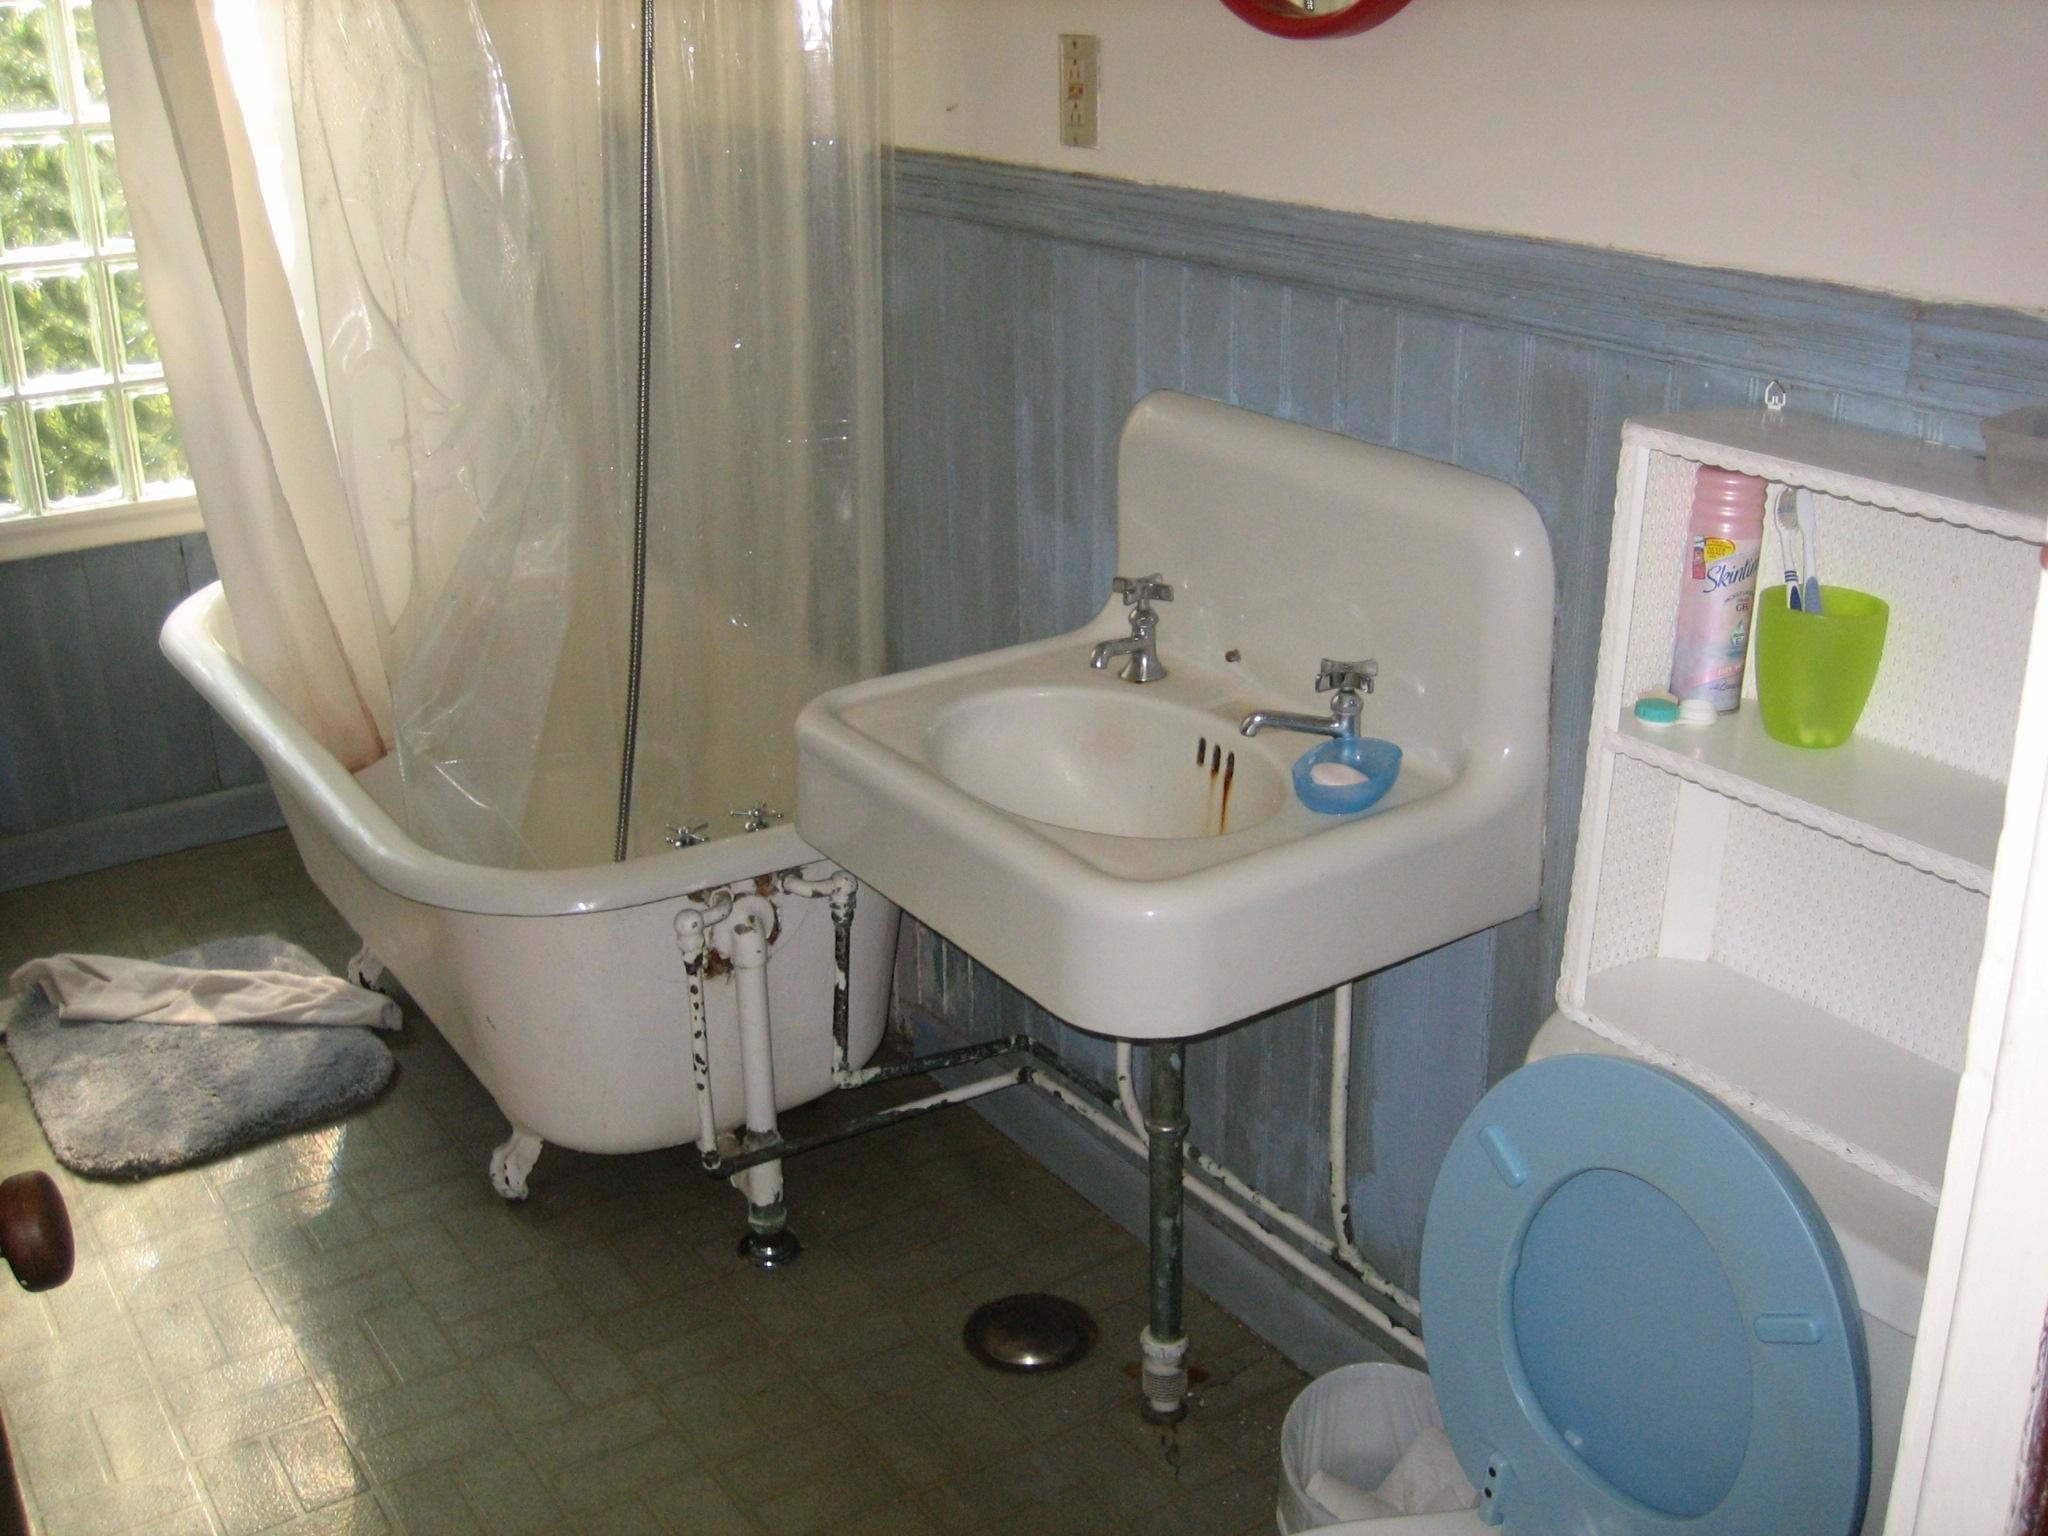Bote de Basura: (1272, 1360, 1477, 1517)
Lavamanos: (772, 436, 1579, 1050)
